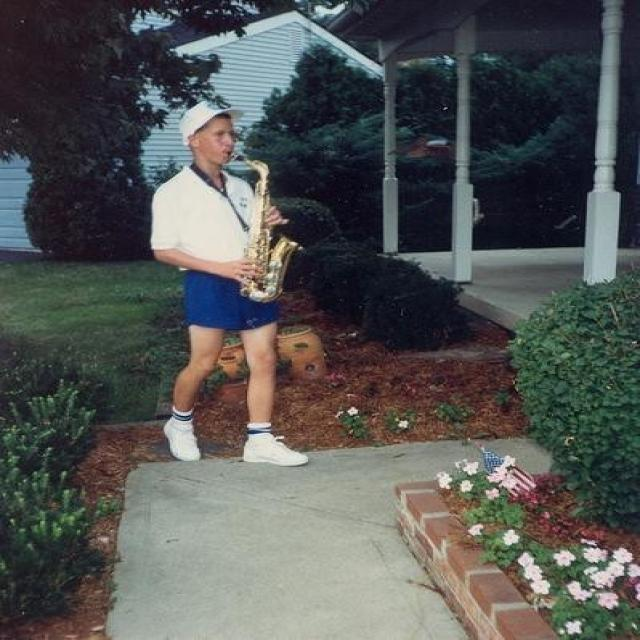saxophone: (224, 148, 306, 306)
